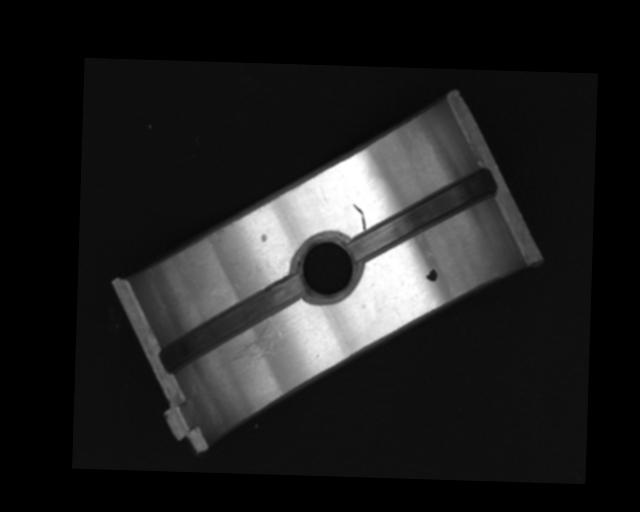blot: (424, 266, 438, 281)
bruise: (260, 233, 267, 244)
gap: (160, 270, 303, 376), (355, 166, 494, 262)
hole: (293, 233, 361, 300)
nick: (352, 204, 367, 231)
scratch: (214, 316, 281, 372)
